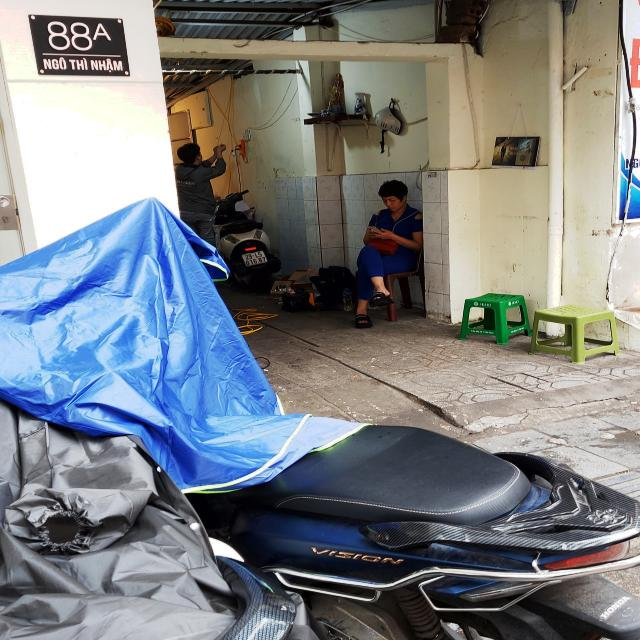license_plate: (240, 250, 270, 269)
